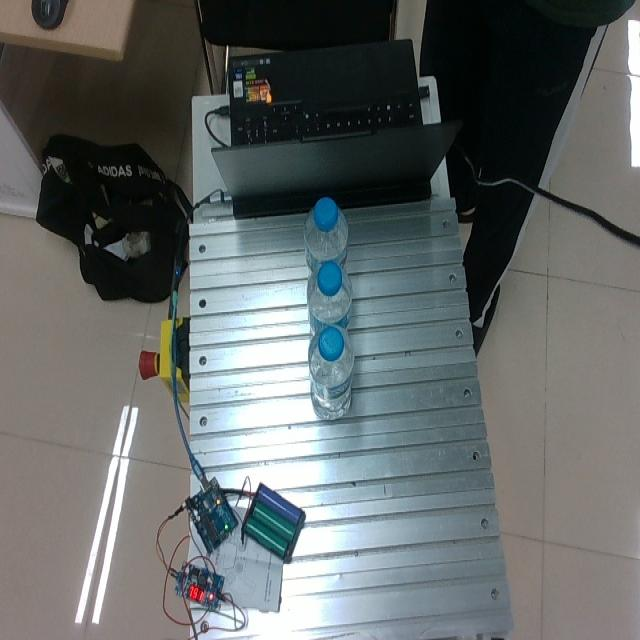lavie: (307, 322, 355, 418), (302, 199, 348, 277), (307, 260, 353, 336)
